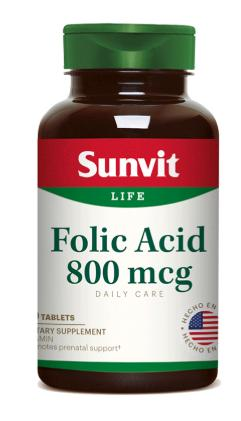brand: (73, 148, 186, 180)
product_name: (50, 224, 210, 293)
